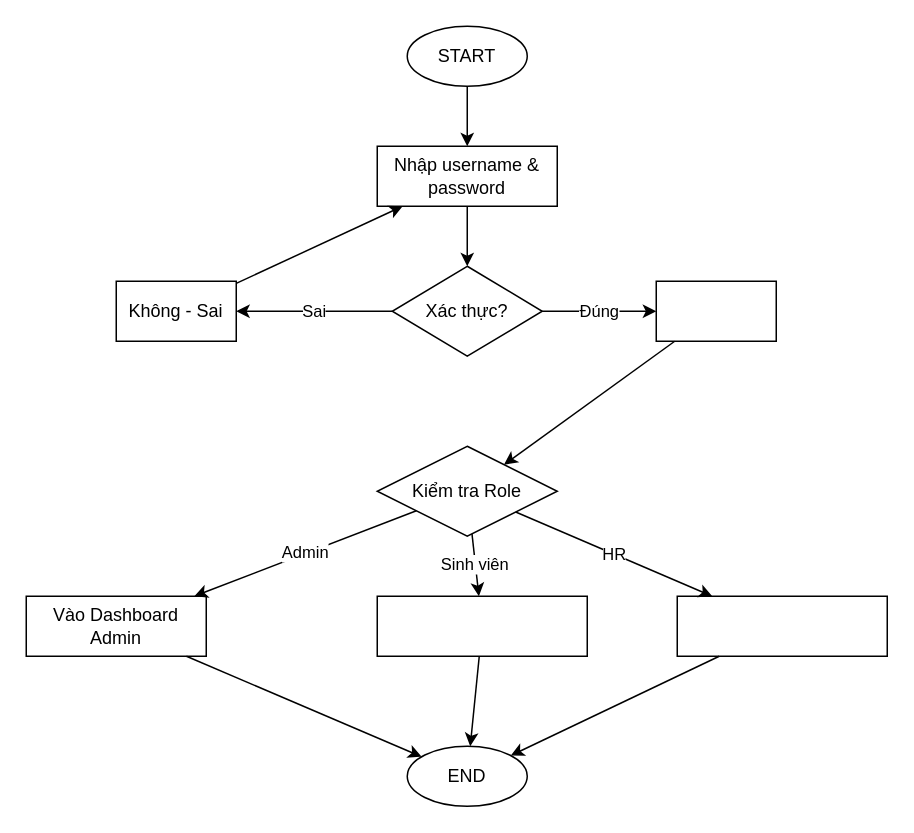
Some shapes in this 914 by 833 pixel diagram are drawn without their labels. Each missing label, with the centre of its shape:
Có - Đúng: the point at 715,310
Vào Dashboard Cán bộ DN: the point at 781,625
Vào Dashboard Sinh viên: the point at 481,625
